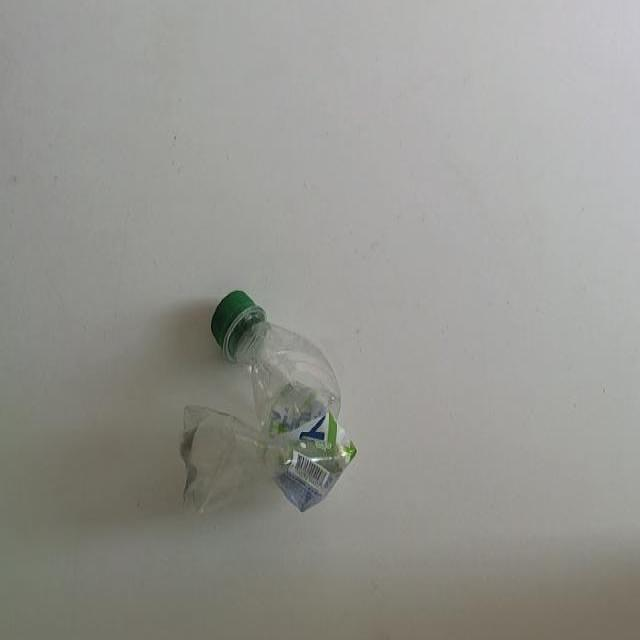defect: (177, 286, 360, 520)
